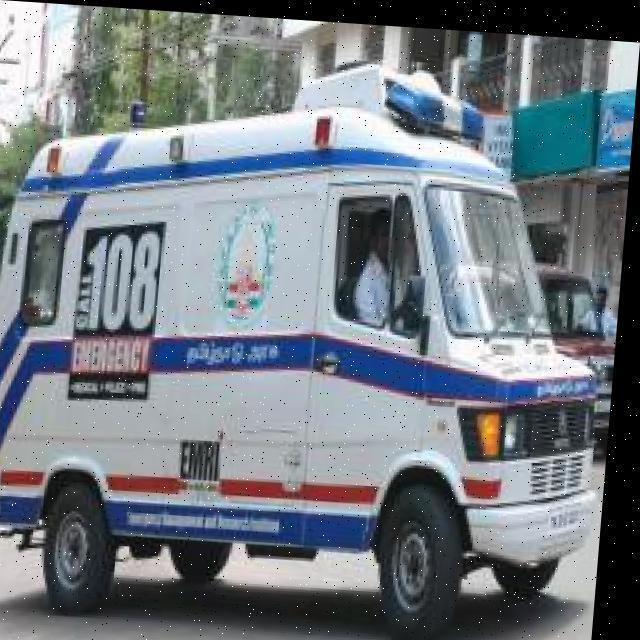Ambulance: (0, 34, 635, 640), (0, 367, 613, 640), (0, 225, 9, 412)
